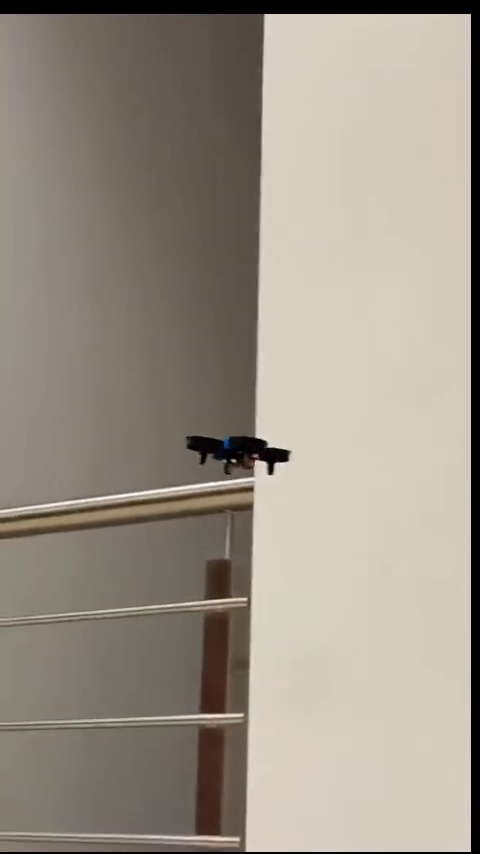drone: (186, 429, 288, 479)
